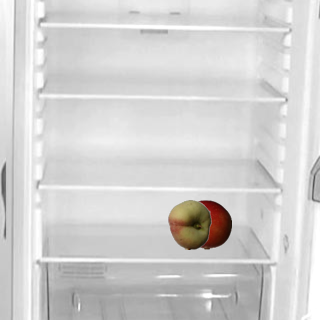Apple Braeburn: (181, 199, 231, 249)
Peach Flat: (164, 199, 214, 249)
